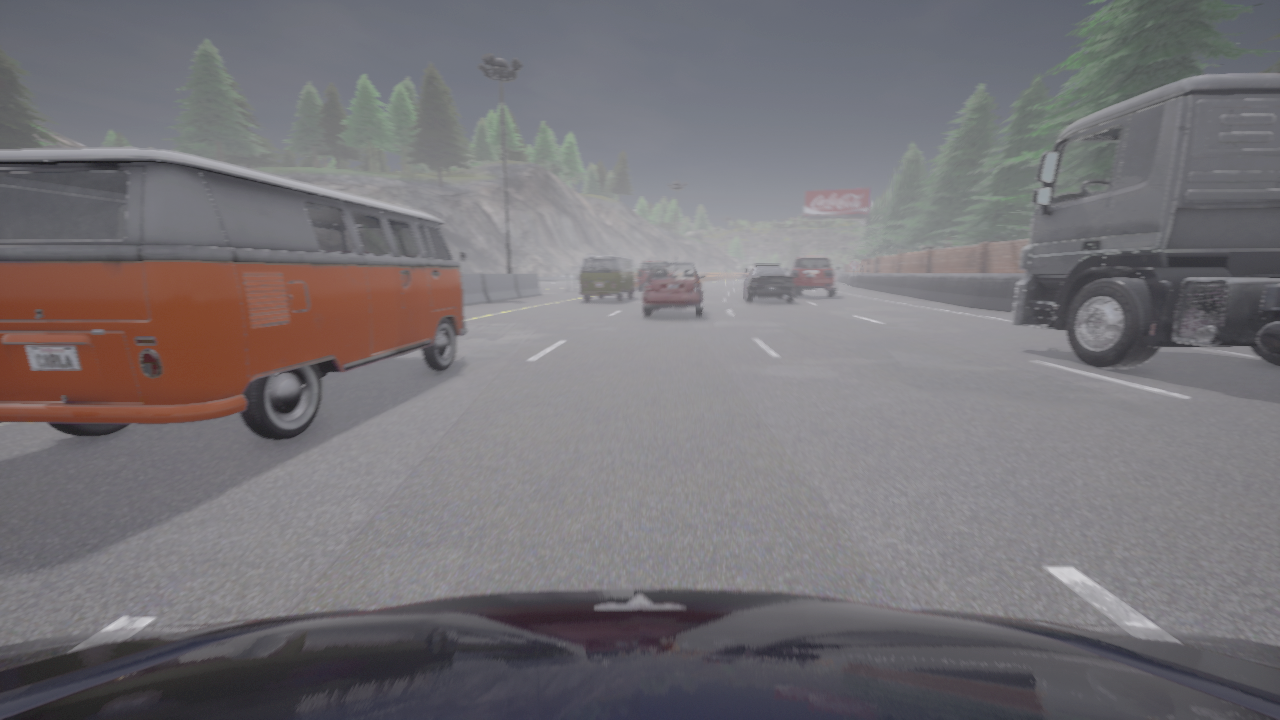cyclist: (0, 588, 1279, 719), (0, 148, 466, 439), (1012, 73, 1279, 367), (643, 261, 705, 316), (580, 255, 636, 301), (790, 256, 840, 297), (742, 263, 793, 301), (637, 261, 662, 290)
